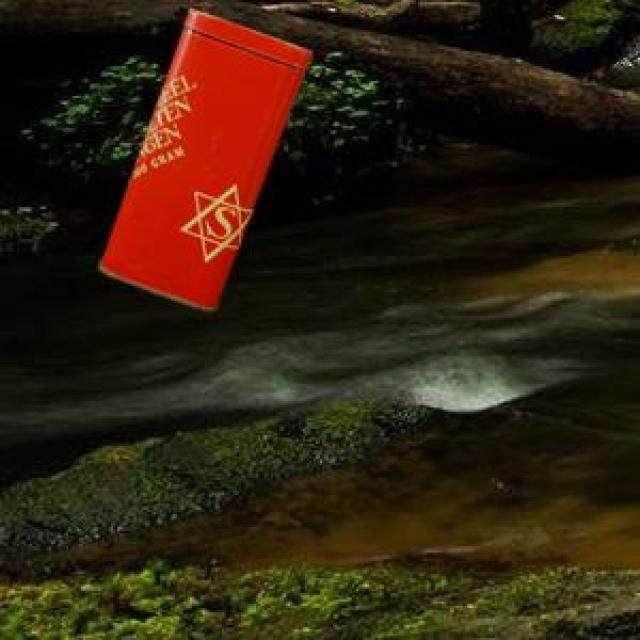logam: (95, 5, 308, 308)
